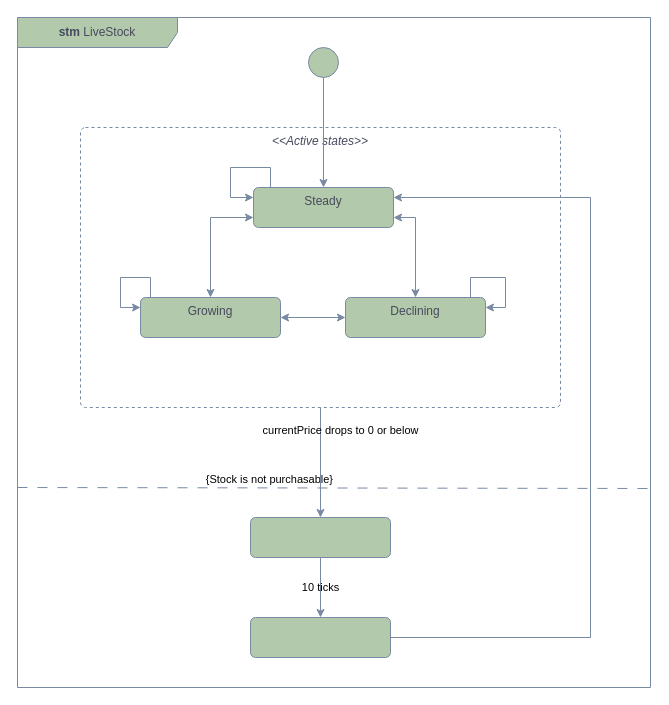
This 669x705 diagram has some shape labels left out. The shapes that lost their labels are listed below. From the top down, each one's centre as x and y in pixels, then its label:
At point 320,537: "Bankrupt".
At point 320,637: "Reset".
